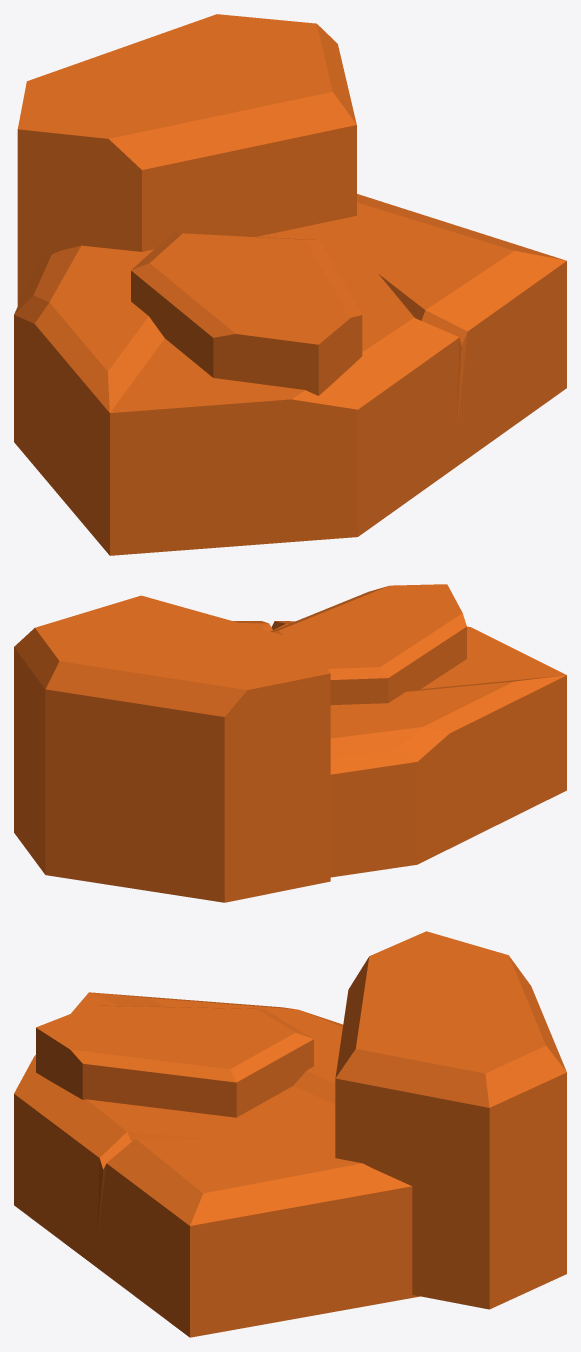
File: Rock04.glb
The picture shows the model from 3 angles, top to bottom: view 1: azimuth 30°, elevation 25°; view 2: azimuth 150°, elevation 25°; view 3: azimuth 270°, elevation 25°; orthographic projection. The views are drawn at different scales.
Visible parts, largest first — view 1: Rock_Type1_03_mesh; view 2: Rock_Type1_03_mesh; view 3: Rock_Type1_03_mesh.
Part boxes in pixels (<box>): Rock_Type1_03_mesh: <box>14,14,566,555</box>; Rock_Type1_03_mesh: <box>14,584,566,902</box>; Rock_Type1_03_mesh: <box>14,931,566,1337</box>.
Size of the model in its own units: 1.47 by 0.7142 by 1.56.
